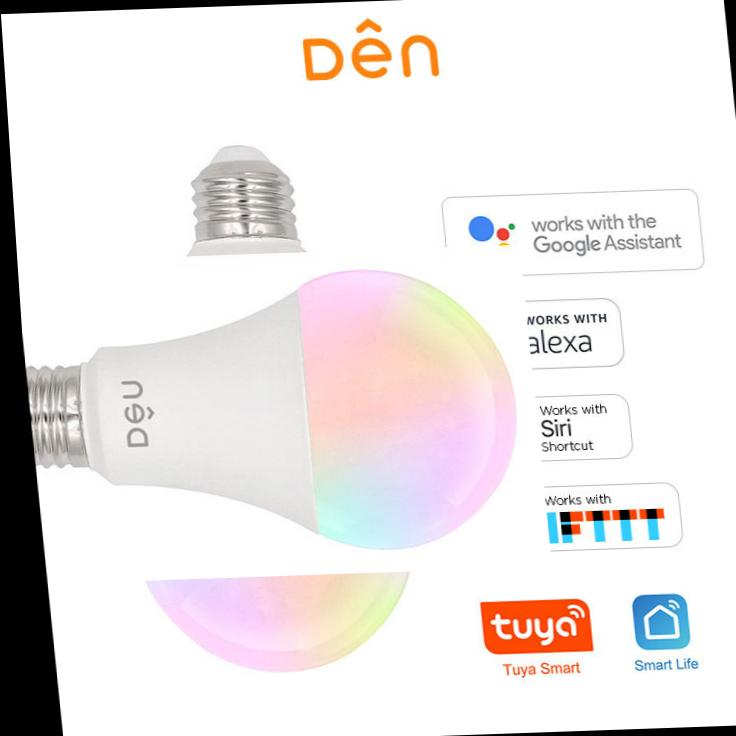Bulb: (13, 186, 491, 642)
